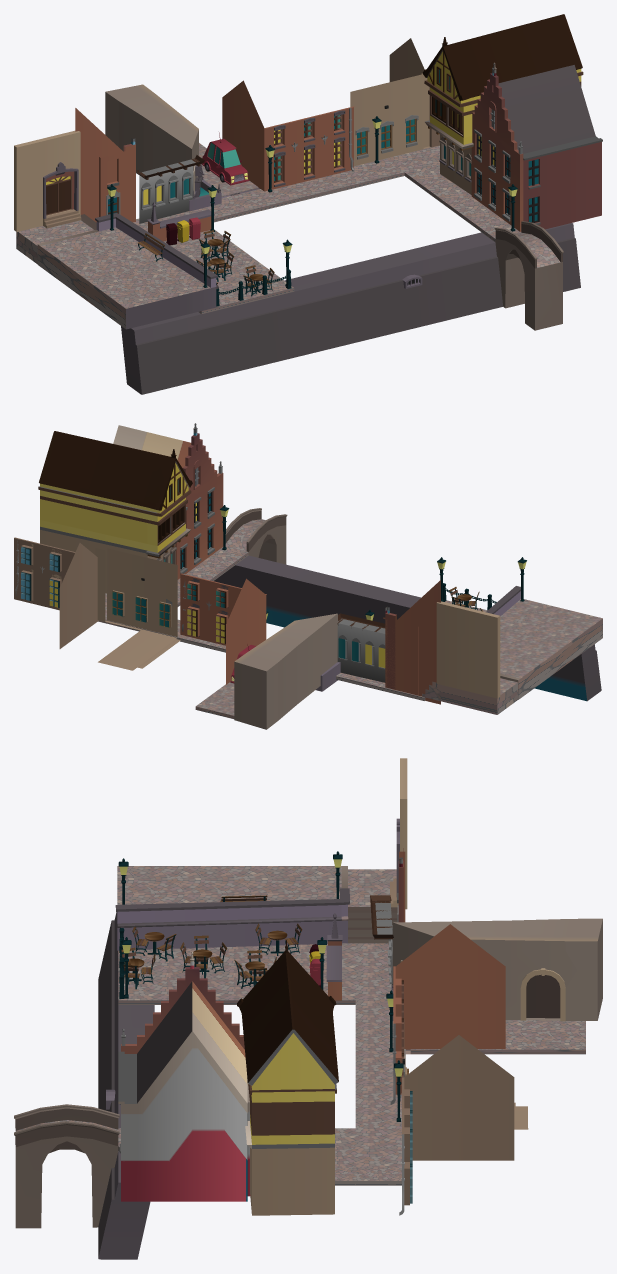
File: 3D_lvl01.fbx
3 renders of one model, top to bottom at view 1: azimuth 30°, elevation 25°; view 2: azimuth 150°, elevation 25°; view 3: azimuth 270°, elevation 25°, orthographic. The views are drawn at different scales.
Visible parts, largest first — view 1: Cube.014; view 2: Cube.014; view 3: Cube.014.
Boxes of the visible parts, bbox=[...] form: Cube.014: bbox=[14, 14, 602, 394]; Cube.014: bbox=[14, 423, 602, 729]; Cube.014: bbox=[14, 758, 602, 1259].
Bounding box in the file's own units: 37.97 × 15.26 × 29.17.
